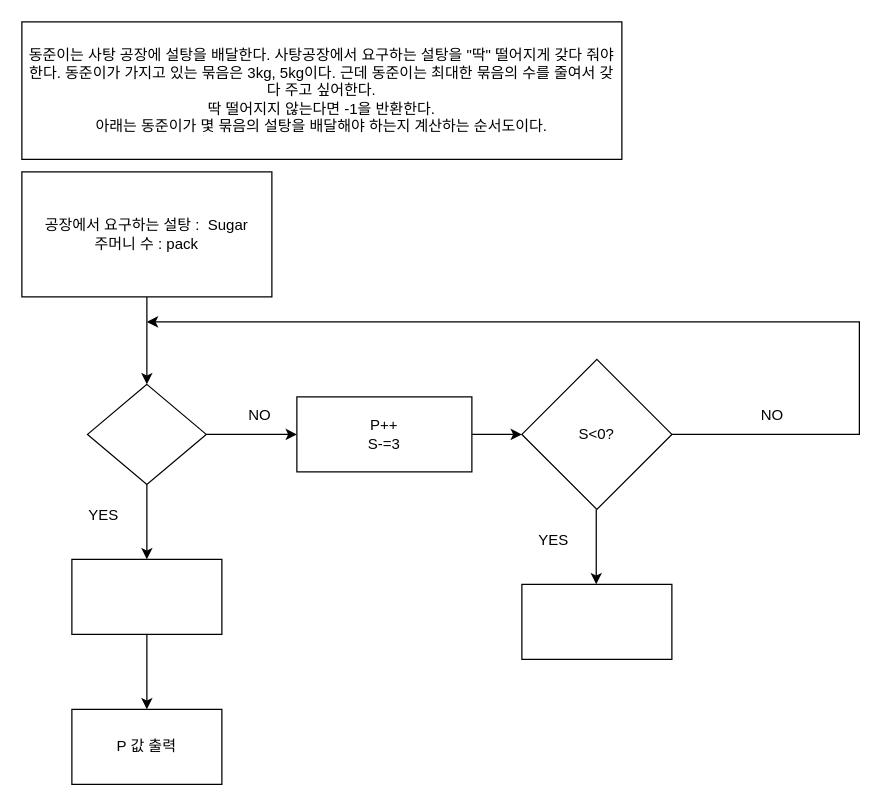
The diagram is 891 pixels wide and 806 high, and some of its shapes have lost their labels. The centre of each missing label's shape, as x and y in pixels:
-1 출력: (596,621)
P += S/5: (146,596)
S%5 == 0?: (146,433)
